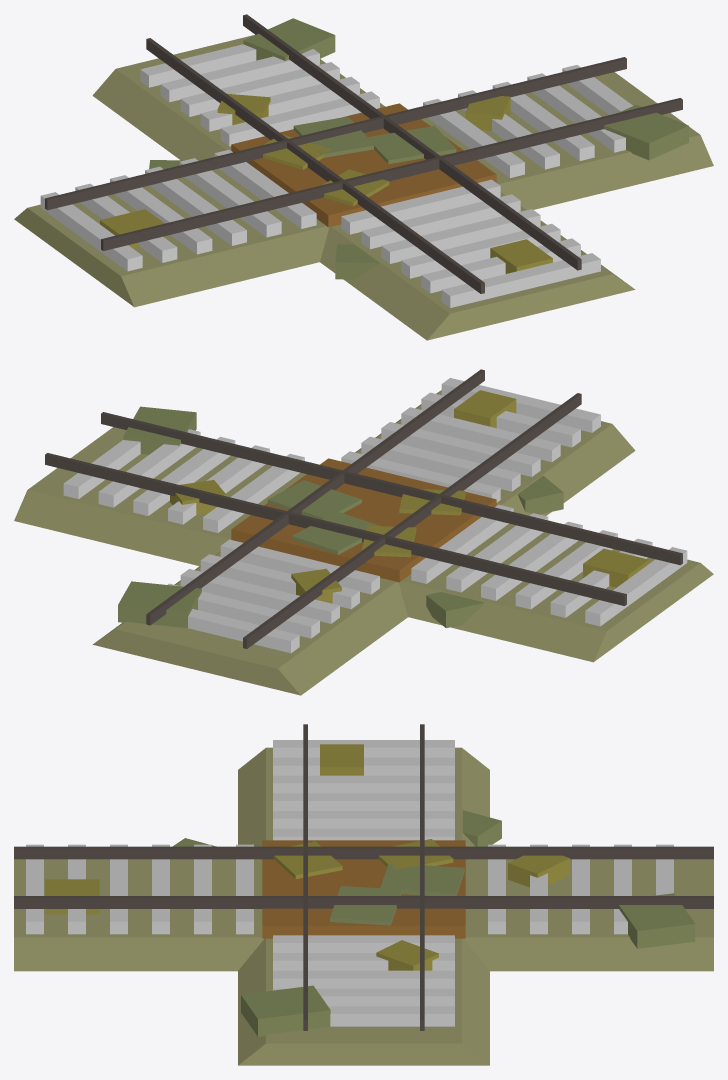
File: SM_Via_Cruce_v2_Maleza_LOD0.fbx
3 views of the same model, one above another, from view 1: azimuth 30°, elevation 25°; view 2: azimuth 150°, elevation 25°; view 3: azimuth 270°, elevation 25° (orthographic). The views are drawn at different scales.
Visible parts, largest first — view 1: SM_via_trazado_v42_LOD0; view 2: SM_via_trazado_v42_LOD0; view 3: SM_via_trazado_v42_LOD0.
Boxes of the visible parts, box(x1,y1,x2,y2) form: SM_via_trazado_v42_LOD0: box(14, 14, 713, 340); SM_via_trazado_v42_LOD0: box(14, 369, 713, 695); SM_via_trazado_v42_LOD0: box(14, 724, 713, 1065).
Bounding box in the file's own units: 10 × 0.722 × 10.
